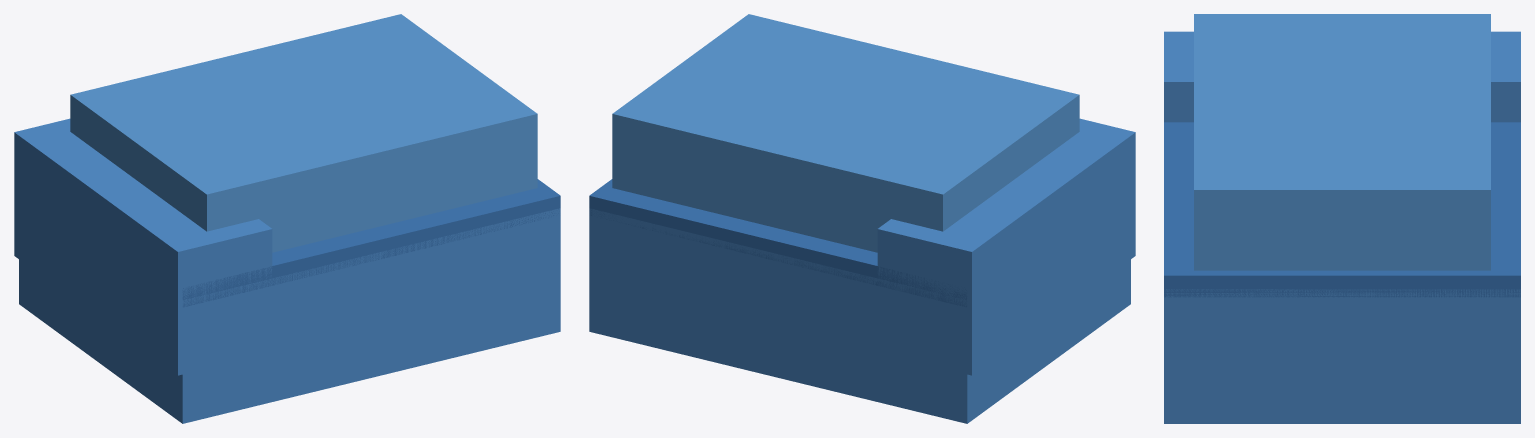
Rendered from item_clothes.fbx.
3 views of the same model, side by side, from view 1: azimuth 30°, elevation 25°; view 2: azimuth 150°, elevation 25°; view 3: azimuth 270°, elevation 25° (orthographic). The views are drawn at different scales.
Visible parts, largest first — view 1: M__item_clothes; view 2: M__item_clothes; view 3: M__item_clothes.
Part boxes in pixels (box(x1,y1,x2,y2)): M__item_clothes: box(14, 14, 560, 423); M__item_clothes: box(589, 14, 1135, 423); M__item_clothes: box(1164, 14, 1520, 423).
Bounding box in the file's own units: 0.162 × 0.085 × 0.12.
